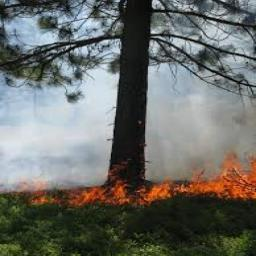Heavy smoke: (0, 37, 255, 181)
Medium fire: (1, 147, 256, 216)
